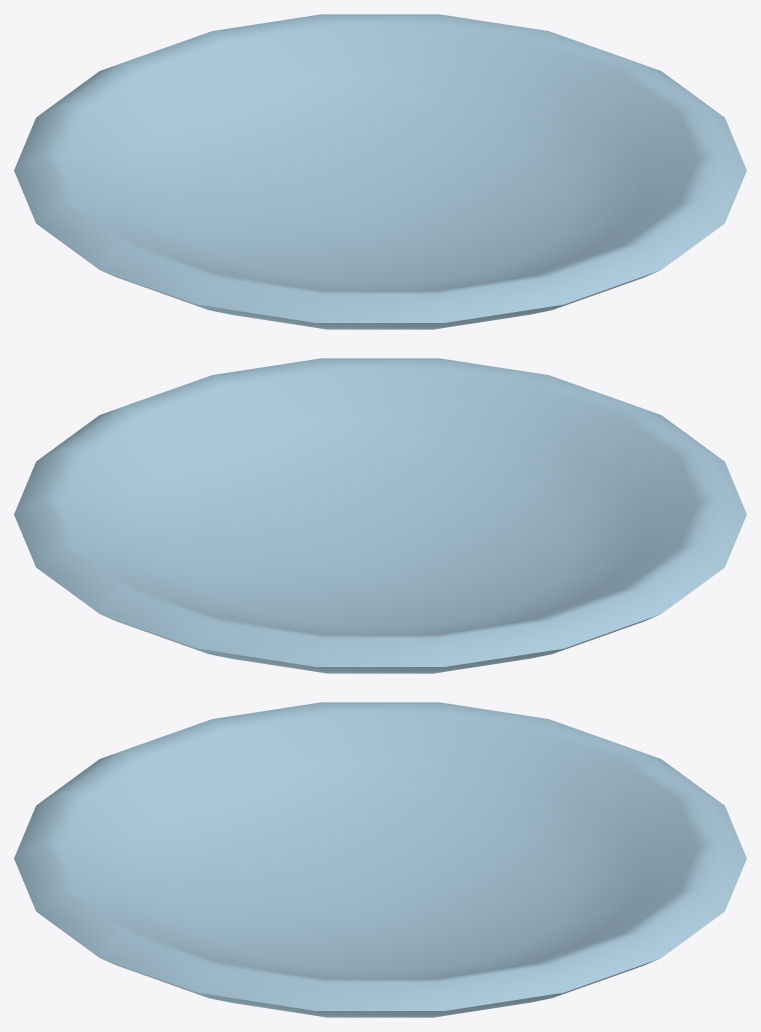
The model's file is plate.glb.
3 renders of one model, top to bottom at view 1: azimuth 30°, elevation 25°; view 2: azimuth 150°, elevation 25°; view 3: azimuth 270°, elevation 25°, orthographic.
Parts seen in each view (by area): view 1: Environment_Plate; view 2: Environment_Plate; view 3: Environment_Plate.
Part boxes in pixels (x1,y1,x2,y2): Environment_Plate: (14,14,746,329); Environment_Plate: (14,358,746,673); Environment_Plate: (14,702,746,1017).
Size of the model in its own units: 1 by 0.1479 by 1.02.
